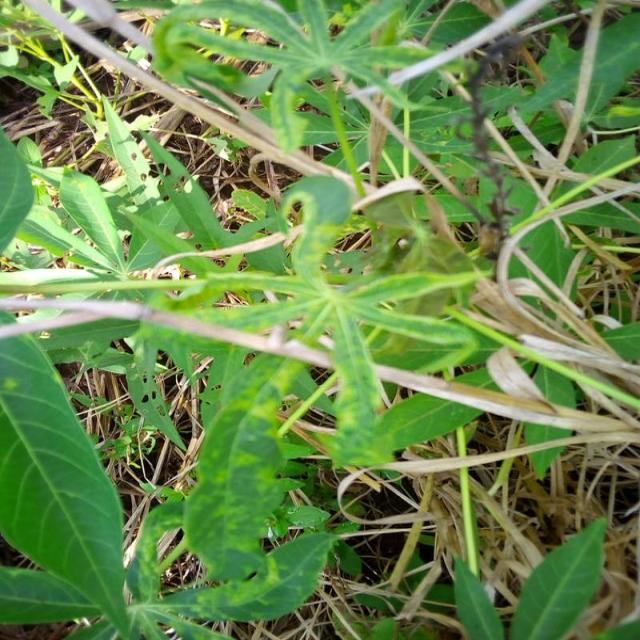cassava leaf: (1, 1, 638, 638), (0, 308, 130, 635), (180, 334, 318, 582)
